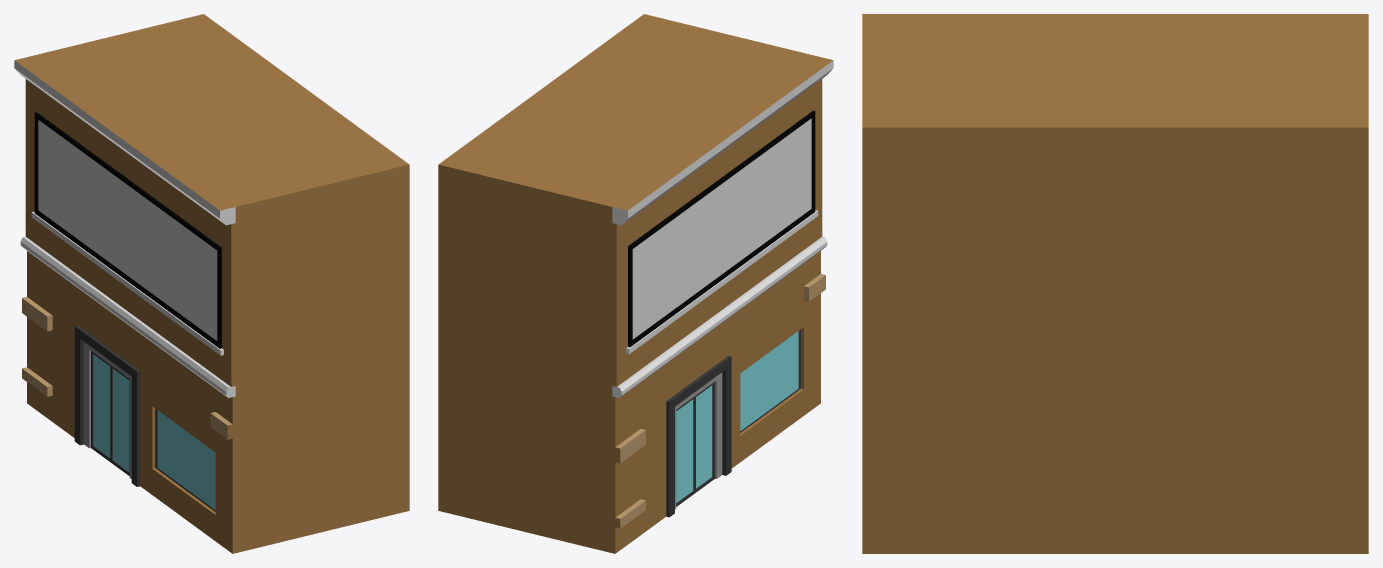
Rendered from Standard Building 5.fbx.
The picture shows the model from 3 angles, left to right: view 1: azimuth 30°, elevation 25°; view 2: azimuth 150°, elevation 25°; view 3: azimuth 270°, elevation 25°; orthographic projection. The views are drawn at different scales.
Visible parts, largest first — view 1: Cube, Cube.001; view 2: Cube, Cube.001; view 3: Cube.
Part boxes in pixels (<box>): Cube: <box>14,14,409,553</box>; Cube.001: <box>34,112,221,348</box>; Cube: <box>438,14,833,553</box>; Cube.001: <box>628,110,815,347</box>; Cube: <box>862,14,1368,553</box>.
Bounding box in the file's own units: 2166 × 3784 × 4074.
